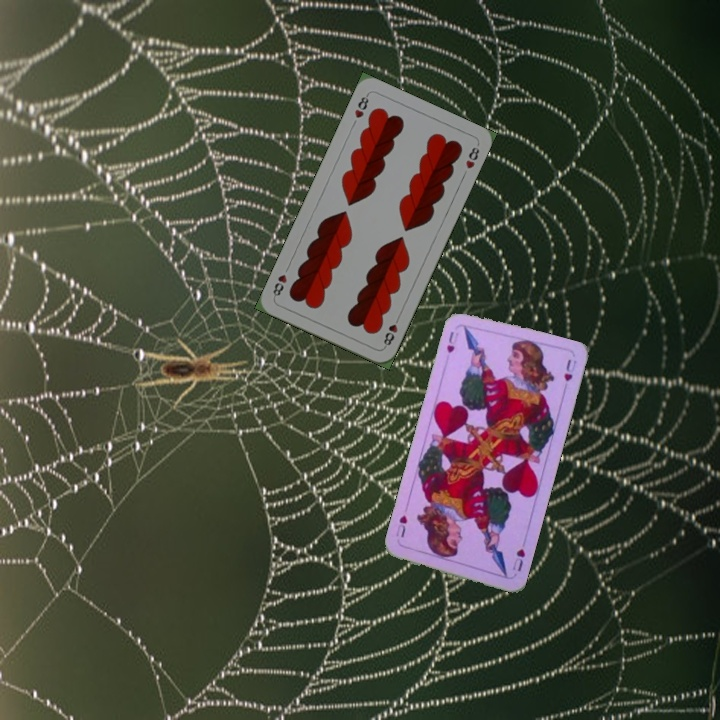H8: (379, 312, 402, 350), (350, 90, 371, 121)
HU: (508, 545, 528, 574), (443, 327, 461, 356)
